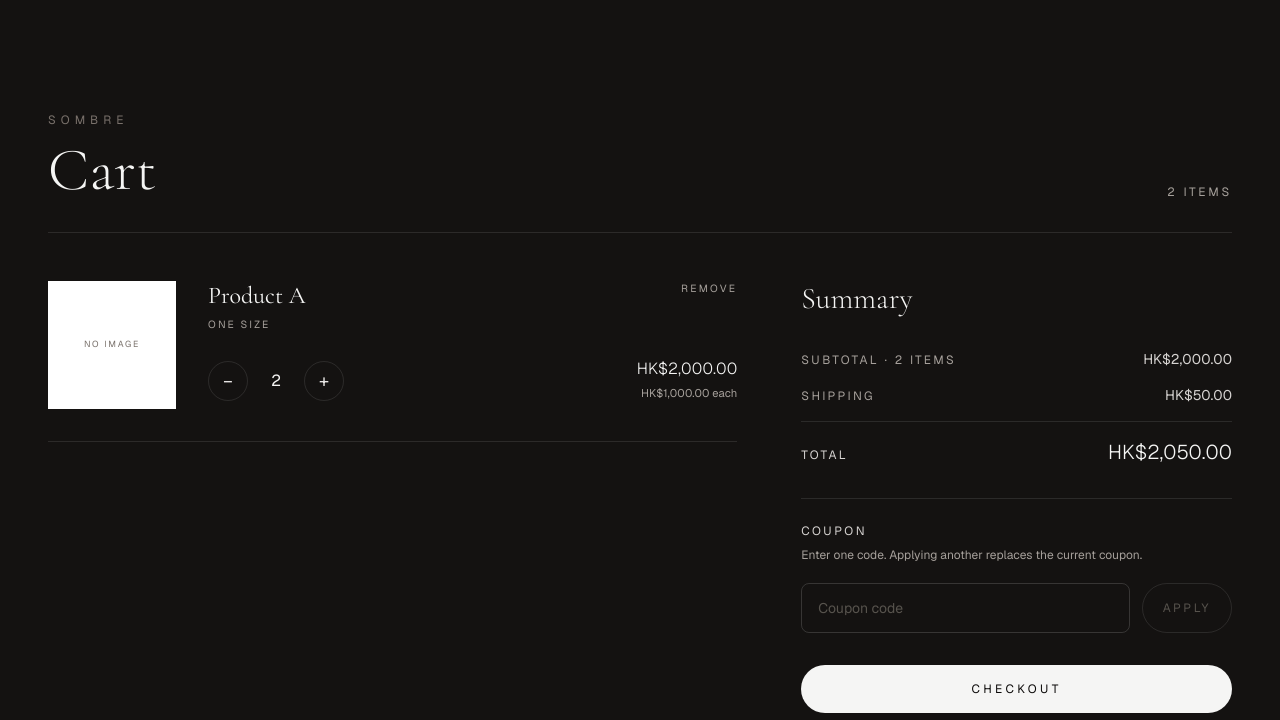
Test case: Cart coupon interface › replaces the active coupon without compounding
Type "sombre" into the field labelled "Coupon code" at (965, 608), box [801,583,1130,633]
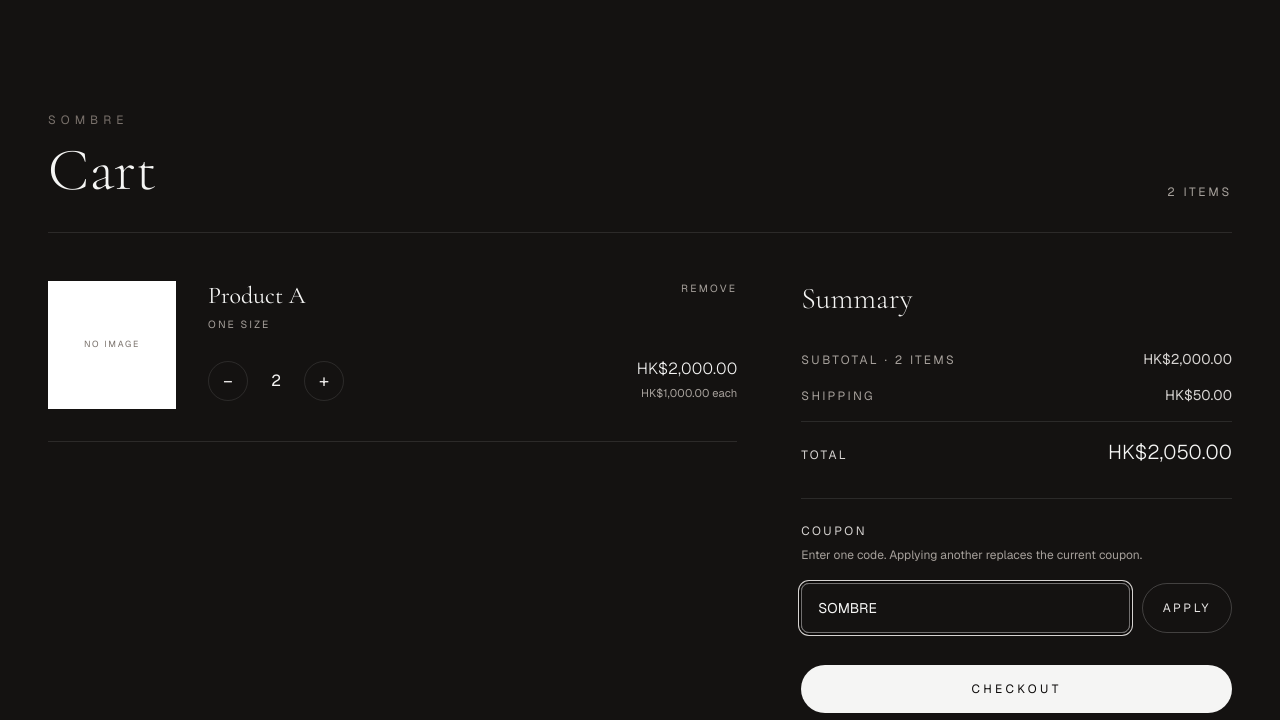
Click the button "Apply" at (1187, 608), box [1142,583,1232,633]
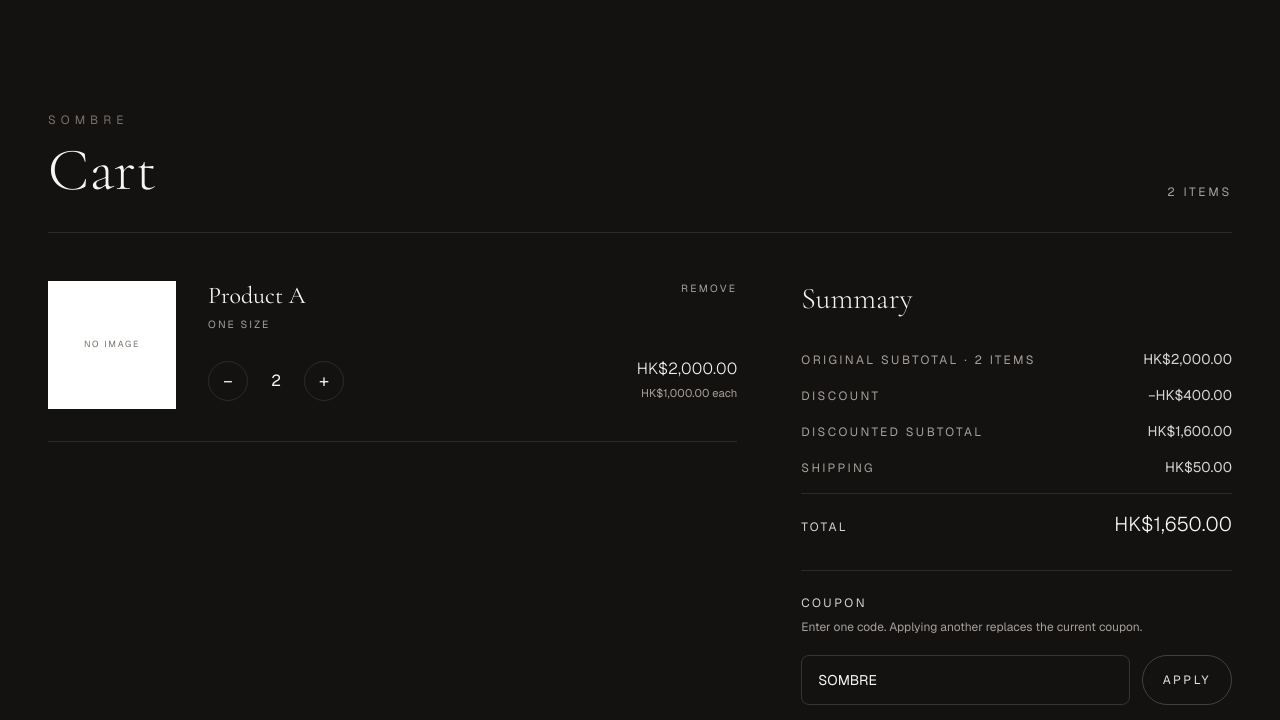
Replace the text in the field named "Coupon code" with "dark" at (965, 680), box [801,655,1130,705]
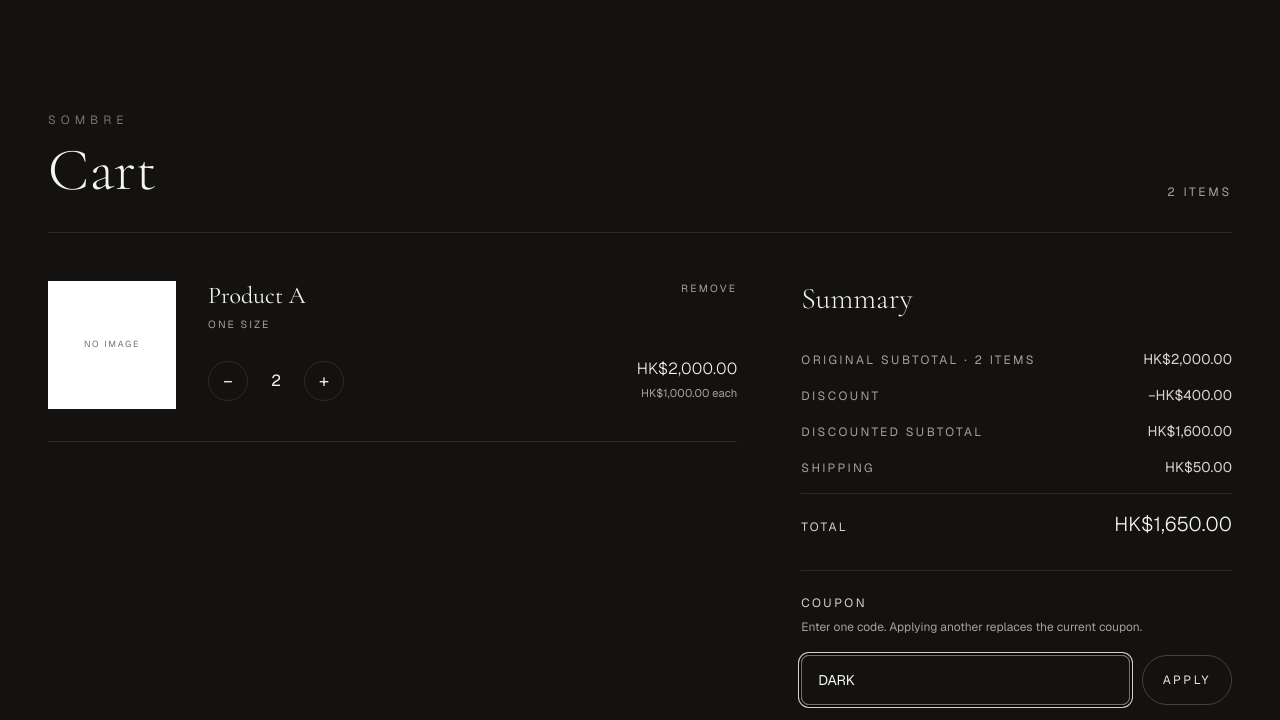
Click the button "Apply" at (1187, 680), box [1142,655,1232,705]
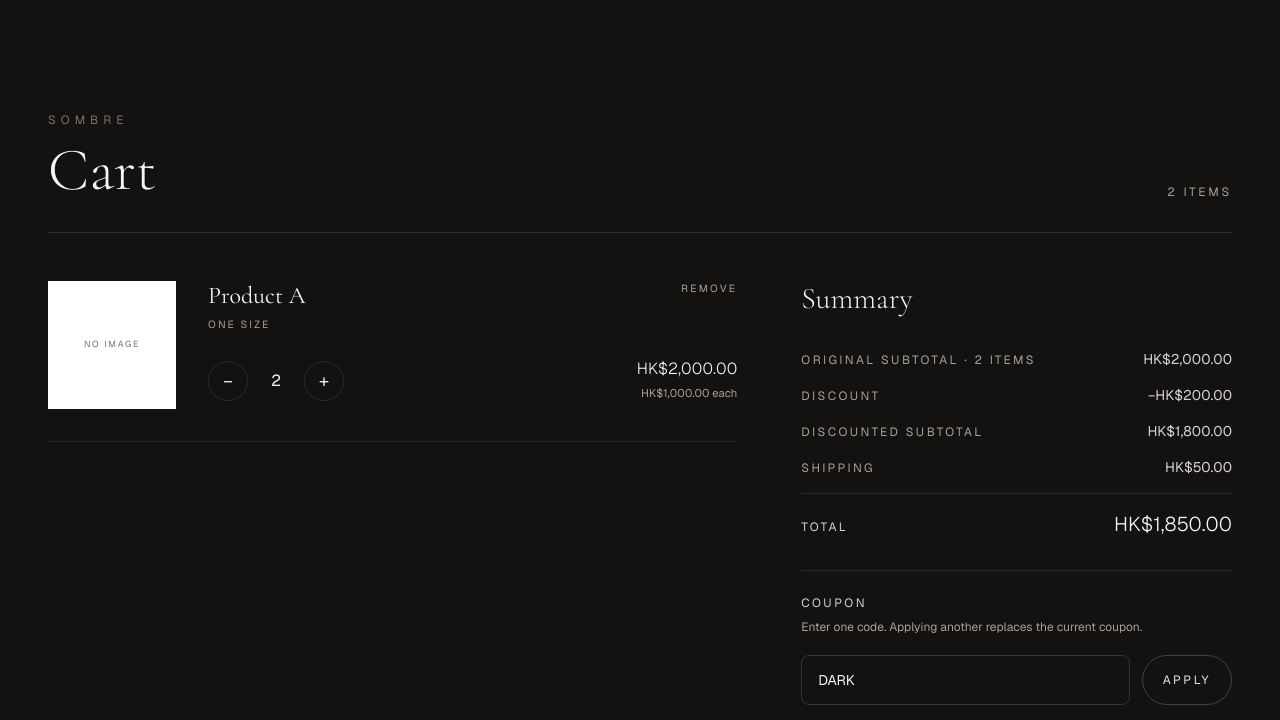
Check: the text "−HK$200.00" is shown, box [1148,385,1232,405]
Check: the text "HK$1,850.00" is shown, box [1114,510,1232,538]
